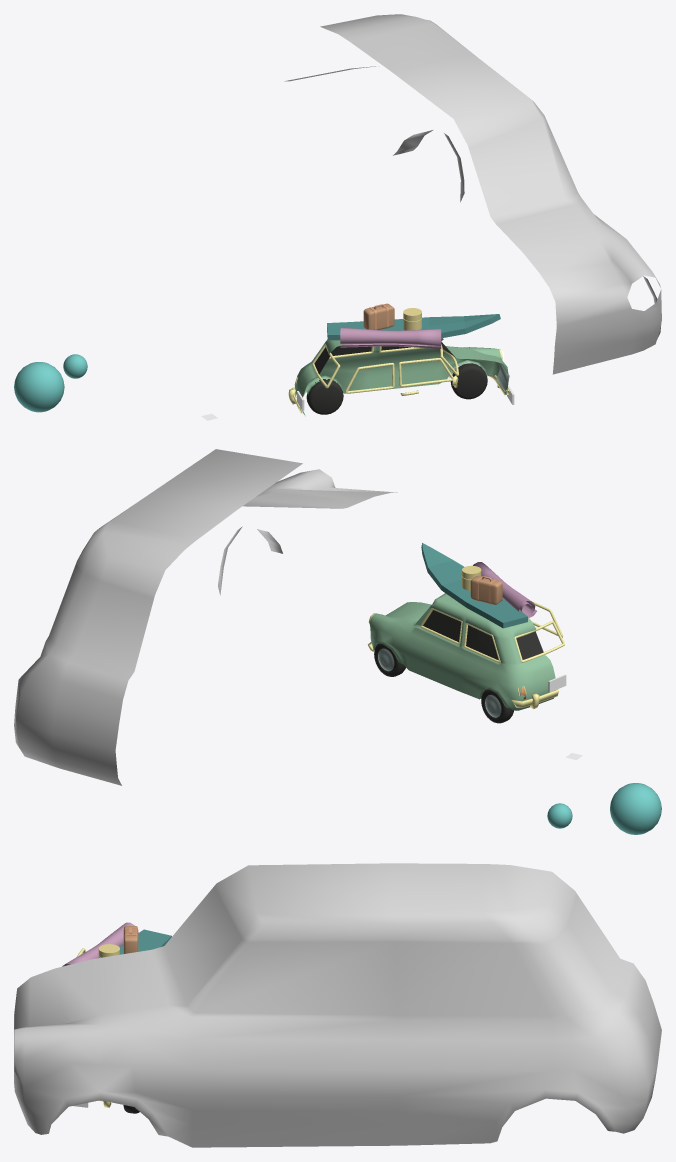
Rendered from vacation car1.glb.
3 renders of one model, top to bottom at view 1: azimuth 30°, elevation 25°; view 2: azimuth 150°, elevation 25°; view 3: azimuth 270°, elevation 25°, orthographic. The views are drawn at different scales.
Parts seen in each view (by area): view 1: guide, car, Sphere.003, Spiral, surfe plane, car.001, Circle.002, Circle.006, Roundcube.016; view 2: guide, car, surfe plane, Sphere.003, car.001, Spiral, Circle.006, Roundcube.016, Circle.002; view 3: guide, Spiral, surfe plane.
Part boxes in pixels (x1,y1,x2,y2): guide: [284, 14, 661, 374]; car: [294, 338, 508, 416]; Sphere.003: [14, 362, 64, 412]; Spiral: [340, 327, 441, 348]; surfe plane: [327, 314, 500, 340]; car.001: [312, 344, 458, 393]; Circle.002: [450, 363, 487, 399]; Circle.006: [306, 379, 343, 414]; Roundcube.016: [363, 303, 394, 329]; guide: [14, 449, 397, 785]; car: [370, 593, 555, 710]; surfe plane: [421, 543, 527, 628]; Sphere.003: [610, 783, 661, 834]; car.001: [420, 601, 564, 662]; Spiral: [473, 562, 536, 618]; Circle.006: [481, 689, 513, 723]; Roundcube.016: [470, 575, 502, 604]; Circle.002: [374, 643, 405, 676]; guide: [14, 863, 661, 1147]; Spiral: [62, 922, 138, 966]; surfe plane: [119, 929, 171, 954].
Bounding box in the file's own units: 5.08 × 2.21 × 4.83.
